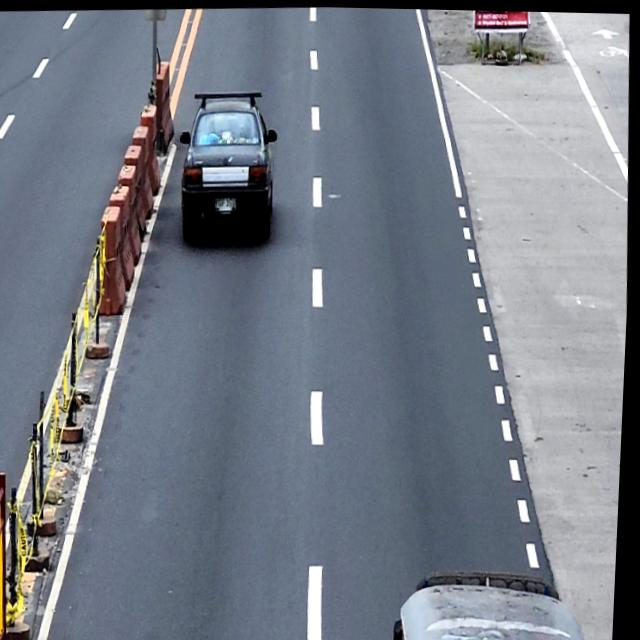Car: (176, 87, 283, 242)
Jeep: (395, 564, 594, 640)
License-Plate: (214, 193, 239, 213)
